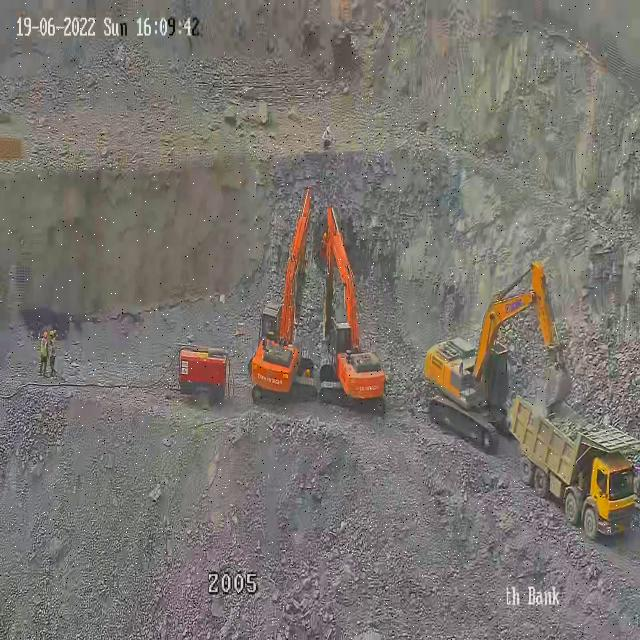Boots: (44, 370, 48, 377), (40, 369, 43, 376), (50, 372, 54, 376)
Helmet: (49, 331, 54, 337), (42, 332, 46, 338)
Mask: (50, 339, 59, 357), (41, 338, 48, 356)
